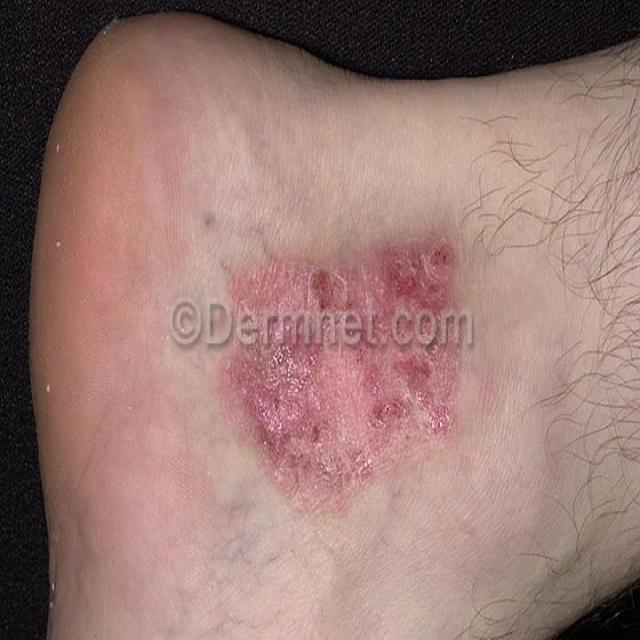Eczema: (206, 225, 458, 500)
